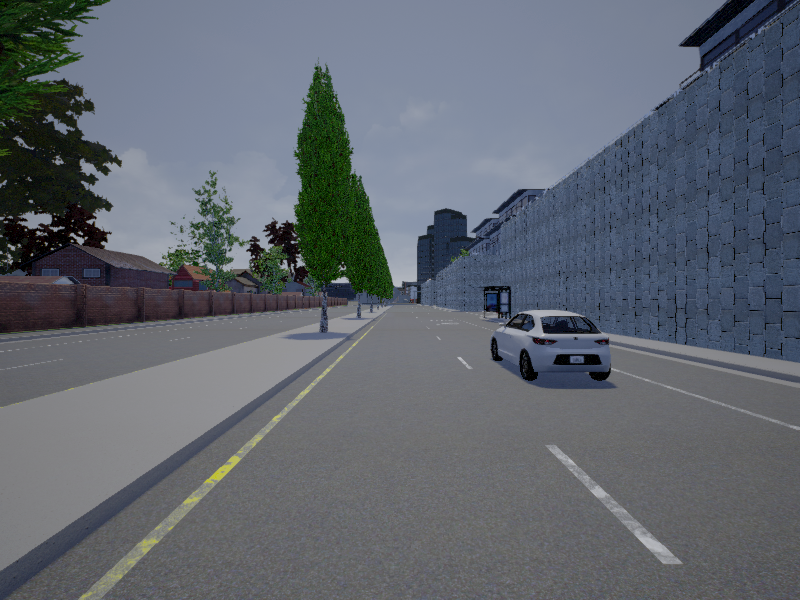Benign: (493, 308, 612, 379)
